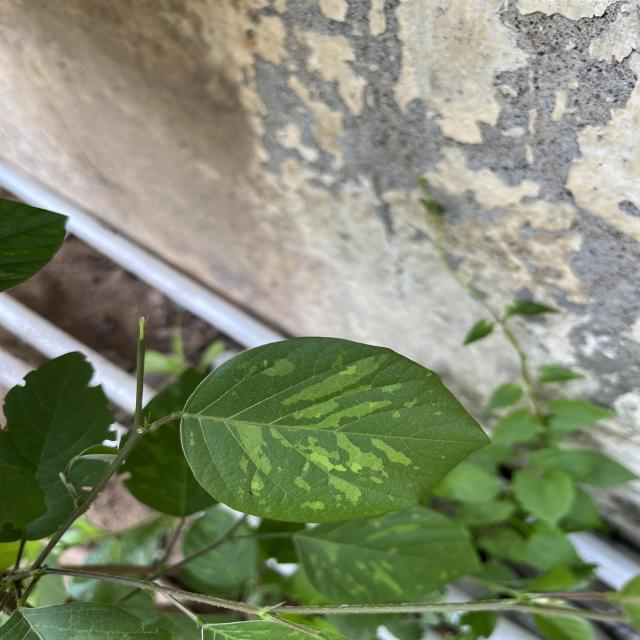Desmodium gangeticum: (175, 333, 497, 526)
